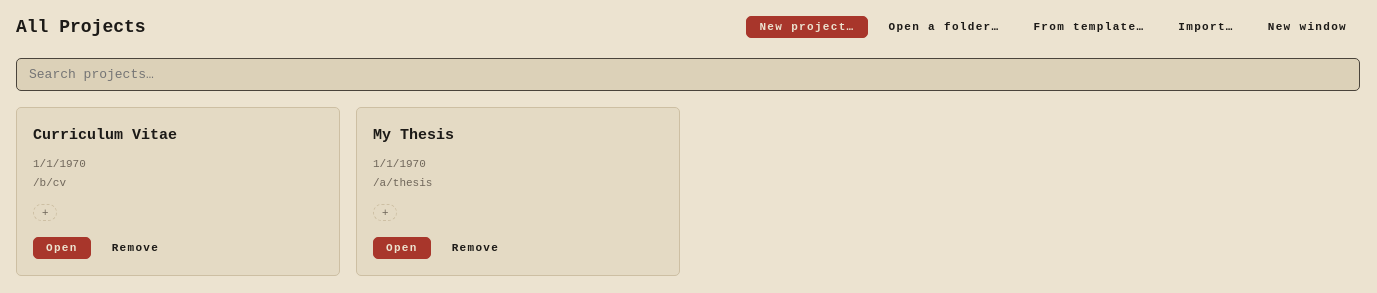
Test: ProjectDashboard search › filters cards by search query
In the search field labelled "Search projects": (688, 74) [16,58,1360,91], type "thesis"
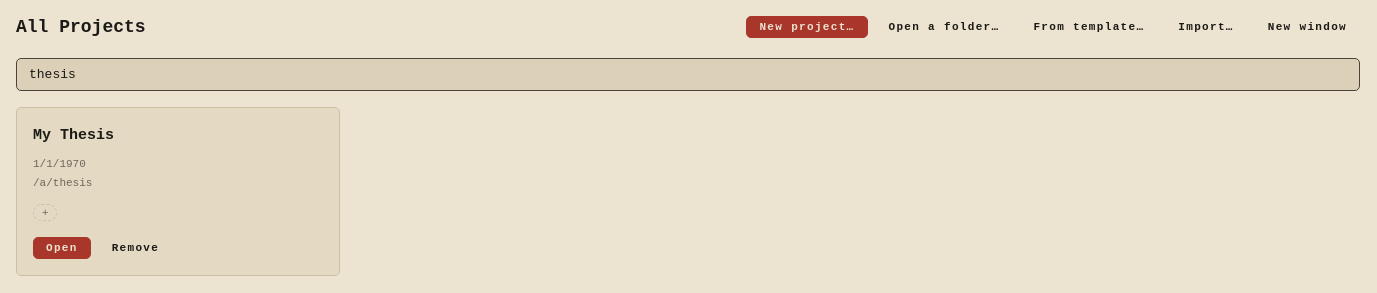
Expected: the text "My Thesis" is shown, [33,127,114,144]
Now the text "Curriculum Vitae" is gone
